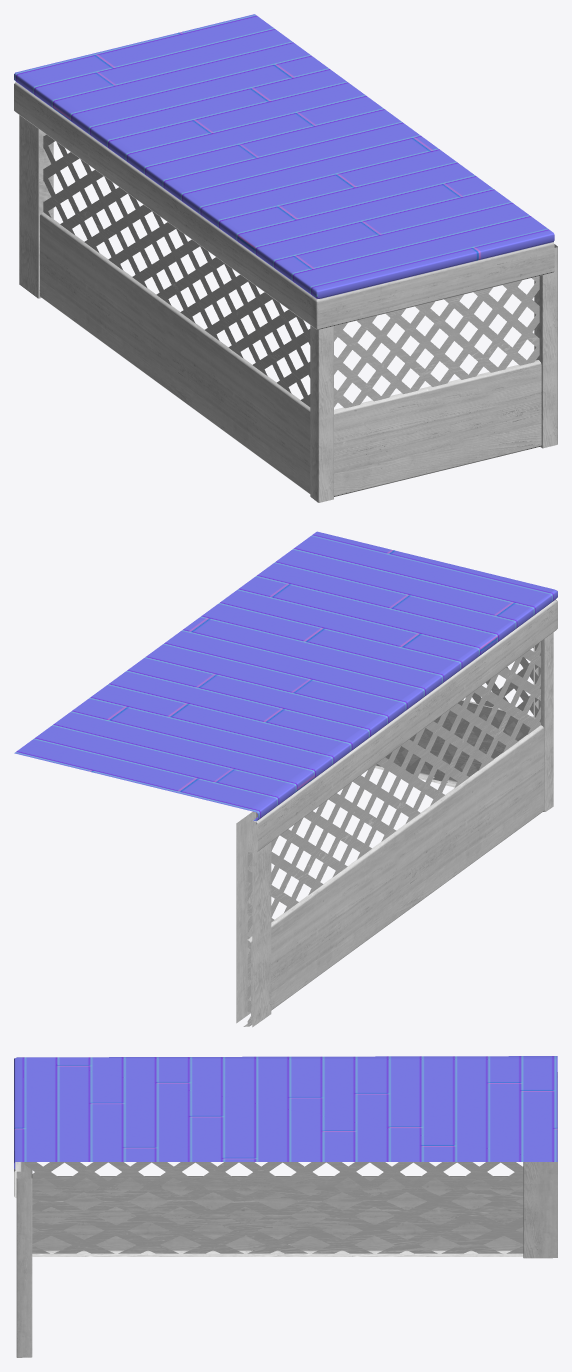
The picture shows the model from 3 angles, top to bottom: view 1: azimuth 30°, elevation 25°; view 2: azimuth 150°, elevation 25°; view 3: azimuth 270°, elevation 25°; orthographic projection. The views are drawn at different scales.
Visible parts, largest first — view 1: Base_B1; view 2: Base_B1; view 3: Base_B1.
Part boxes in pixels (x1,y1,x2,y2): Base_B1: (14, 14, 557, 502); Base_B1: (14, 531, 557, 1027); Base_B1: (14, 1056, 557, 1357).
Bounding box in the file's own units: 142 × 119 × 300.
